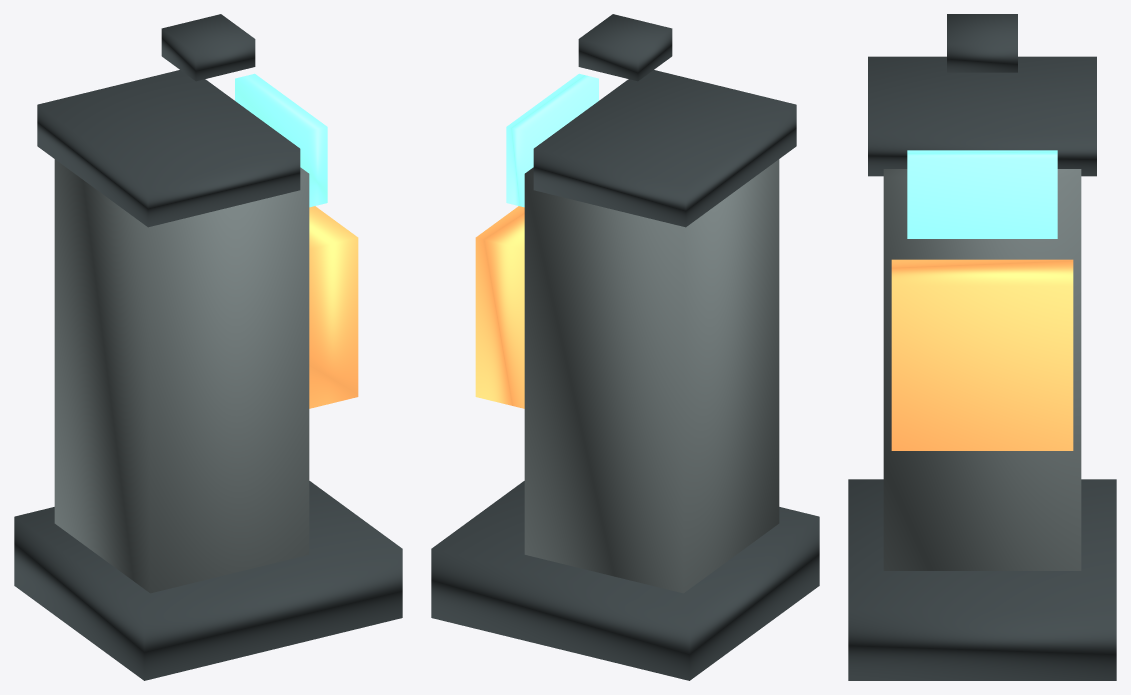
Rendered from spin-habitat-pressure-lock-lod1.glb.
3 views of the same model, side by side, from view 1: azimuth 30°, elevation 25°; view 2: azimuth 150°, elevation 25°; view 3: azimuth 270°, elevation 25° (orthographic). The views are drawn at different scales.
Visible parts, largest first — view 1: spin-habitat-pressure-lock-column, spin-habitat-pressure-lock-base, spin-habitat-pressure-lock-guard, spin-habitat-pressure-lock-wheel, spin-habitat-interactable-status, objective-beacon-mount; view 2: spin-habitat-pressure-lock-column, spin-habitat-pressure-lock-base, spin-habitat-pressure-lock-guard, spin-habitat-pressure-lock-wheel, spin-habitat-interactable-status, objective-beacon-mount; view 3: spin-habitat-pressure-lock-base, spin-habitat-pressure-lock-wheel, spin-habitat-pressure-lock-column, spin-habitat-pressure-lock-guard, spin-habitat-interactable-status, objective-beacon-mount.
Boxes of the visible parts, x1,y1,x2,y2 form: spin-habitat-pressure-lock-column: [54, 159, 309, 593]; spin-habitat-pressure-lock-base: [14, 481, 402, 680]; spin-habitat-pressure-lock-guard: [37, 70, 300, 227]; spin-habitat-pressure-lock-wheel: [309, 206, 358, 408]; spin-habitat-interactable-status: [235, 73, 327, 207]; objective-beacon-mount: [161, 14, 255, 81]; spin-habitat-pressure-lock-column: [524, 159, 779, 593]; spin-habitat-pressure-lock-base: [431, 481, 819, 680]; spin-habitat-pressure-lock-guard: [533, 70, 796, 227]; spin-habitat-pressure-lock-wheel: [475, 206, 524, 408]; spin-habitat-interactable-status: [506, 73, 598, 207]; objective-beacon-mount: [578, 14, 672, 81]; spin-habitat-pressure-lock-base: [848, 479, 1116, 680]; spin-habitat-pressure-lock-wheel: [891, 259, 1073, 450]; spin-habitat-pressure-lock-column: [883, 169, 1081, 570]; spin-habitat-pressure-lock-guard: [868, 56, 1096, 176]; spin-habitat-interactable-status: [907, 150, 1057, 238]; objective-beacon-mount: [947, 14, 1017, 72].
Size of the model in its own units: 0.78 by 1.64 by 0.68.
